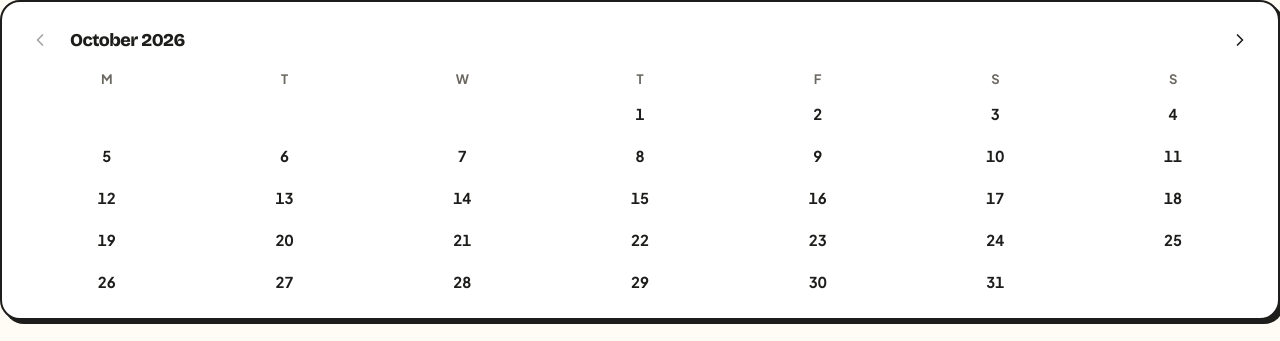
Test: RangeCalendar › finishing a range fills the band day by day, 12ms apart, and pops the end (MOTION N8)
Click the button named "Thu 15 Oct 2026".
click(640, 197)  # box [551,178,729,216]
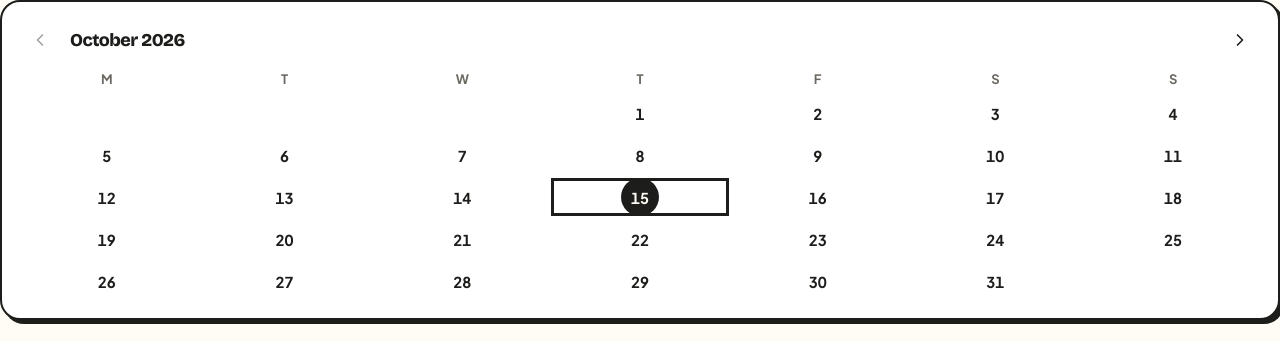
Expected: the text "15" is shown, [621,178,659,216]
Click the button named "Tue 20 Oct 2026".
click(285, 239)  # box [196,220,373,258]
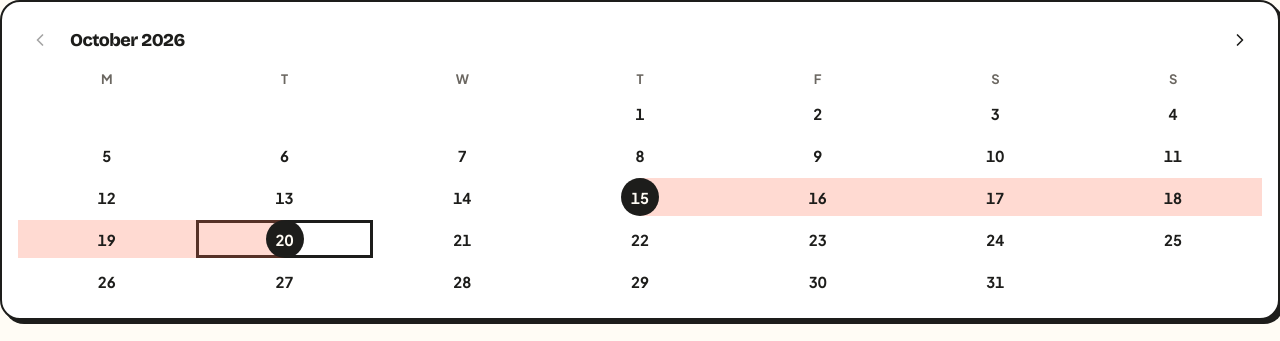
Expected: the text "20" is shown, [266,220,304,258]
